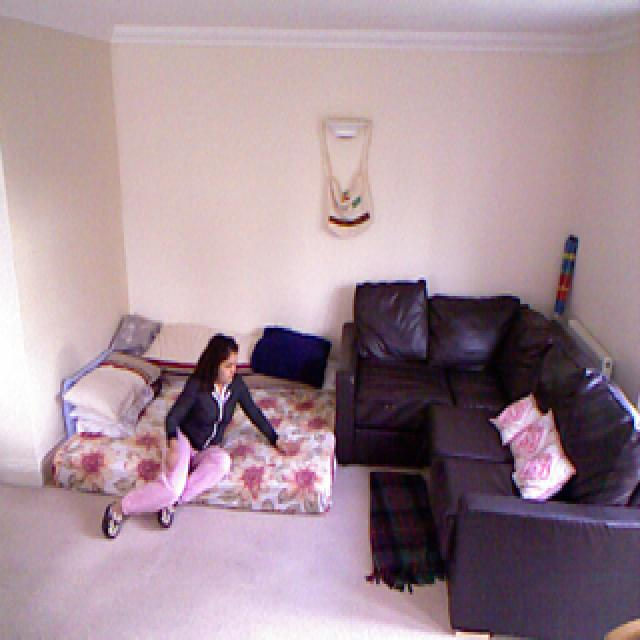sitting: (102, 334, 302, 539)
